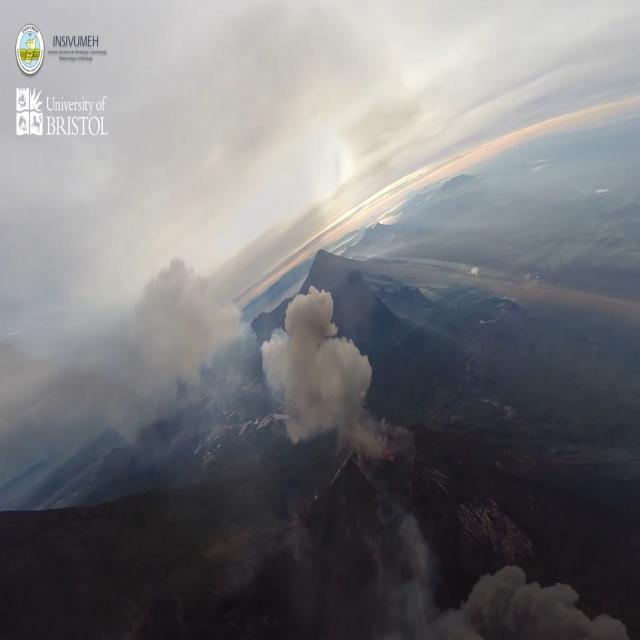Plume: (74, 256, 245, 434), (255, 282, 382, 446)
Summit: (336, 407, 448, 532)
